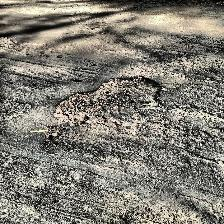pothole: (52, 75, 164, 126)
